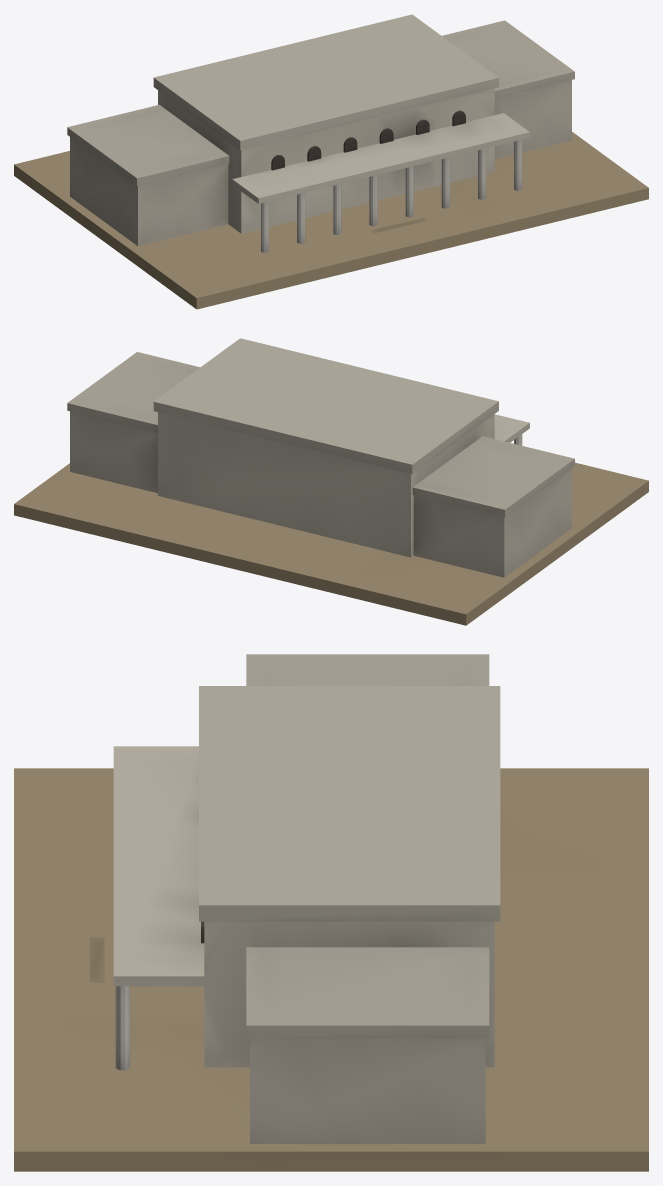
Rendered from hindu-rao-house.glb.
3 views of the same model, one above another, from view 1: azimuth 30°, elevation 25°; view 2: azimuth 150°, elevation 25°; view 3: azimuth 270°, elevation 25° (orthographic). The views are drawn at different scales.
Visible parts, largest first — view 1: p1_house, p2_roof, p0_terrace; view 2: p1_house, p2_roof, p0_terrace; view 3: p0_terrace, p2_roof, p1_house.
Boxes of the visible parts, x1,y1,x2,y2 form: p1_house: (70,80,571,252); p2_roof: (67,14,574,233); p0_terrace: (14,132,648,309); p1_house: (70,411,571,577); p2_roof: (67,338,574,517); p0_terrace: (14,462,648,625); p0_terrace: (14,768,648,1171); p2_roof: (89,654,500,1038); p1_house: (113,746,494,1143).
Size of the model in its own units: 50 by 11.2 by 35.
